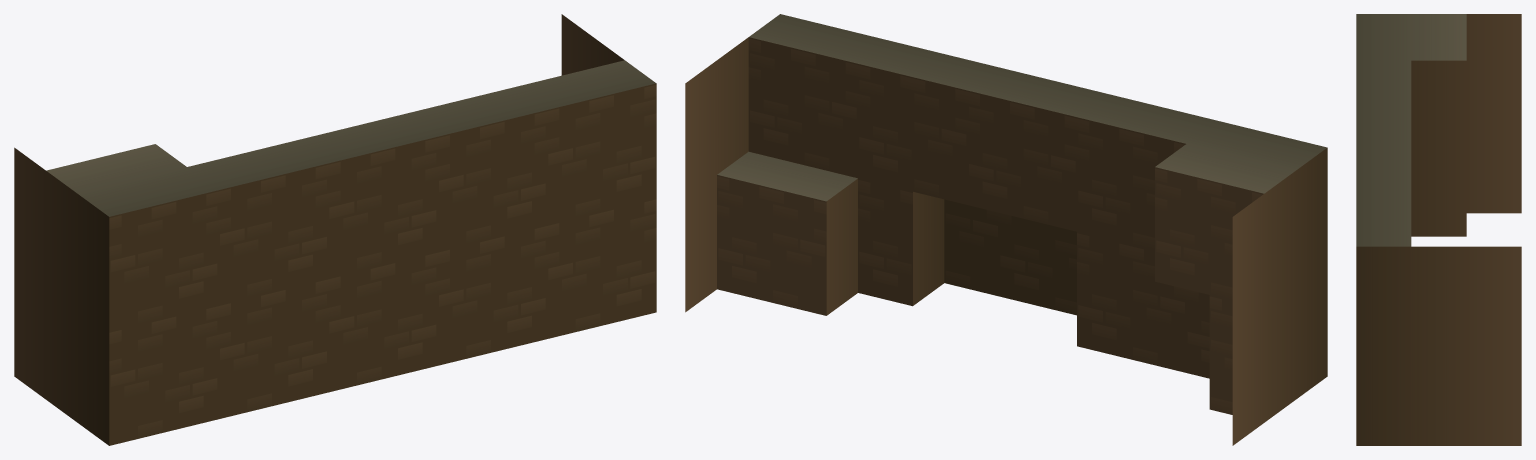
The model's file is SM_Room5_8x20.fbx.
3 views of the same model, side by side, from view 1: azimuth 30°, elevation 25°; view 2: azimuth 150°, elevation 25°; view 3: azimuth 270°, elevation 25° (orthographic). The views are drawn at different scales.
Visible parts, largest first — view 1: SM_Room5_8x20; view 2: SM_Room5_8x20; view 3: SM_Room5_8x20.
Part boxes in pixels (x1=…): SM_Room5_8x20: x1=14, y1=14, x2=656, y2=445; SM_Room5_8x20: x1=685, y1=14, x2=1327, y2=445; SM_Room5_8x20: x1=1356, y1=14, x2=1521, y2=445.
Size of the model in its own units: 2000 by 600 by 800.
